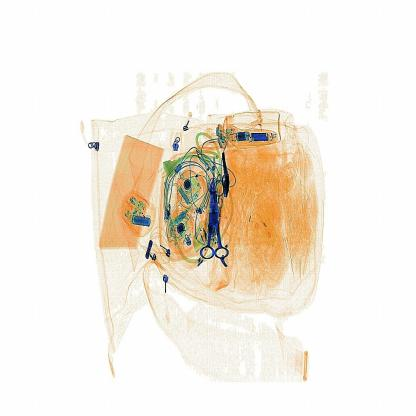gun: (199, 175, 237, 269)
